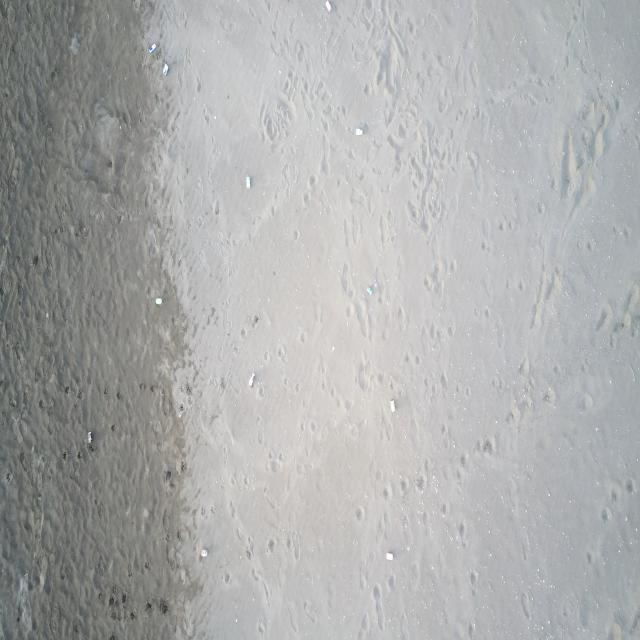tin-and-aluminum-cans: (146, 42, 158, 54), (162, 62, 170, 78), (389, 396, 396, 414), (323, 0, 332, 13), (248, 372, 255, 388), (200, 548, 208, 560), (246, 174, 252, 190), (154, 296, 162, 306), (88, 431, 94, 444), (355, 128, 363, 137), (366, 286, 373, 296), (387, 553, 394, 562)
